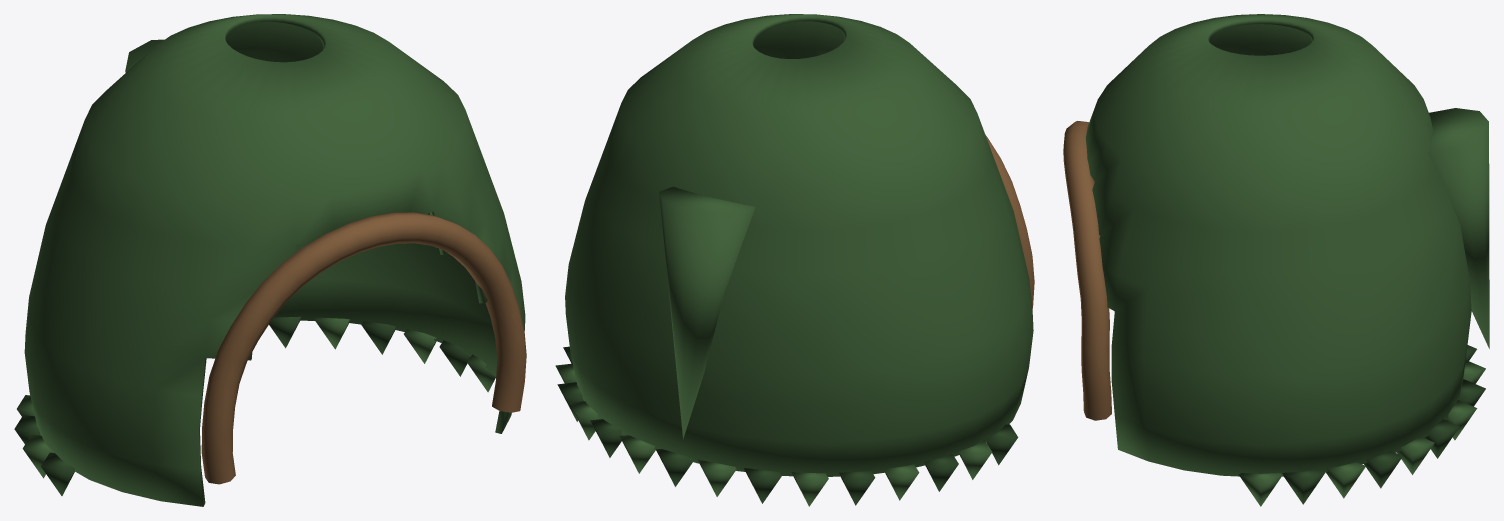
Rendered from helm-ranger.glb.
The picture shows the model from 3 angles, left to right: view 1: azimuth 30°, elevation 25°; view 2: azimuth 150°, elevation 25°; view 3: azimuth 270°, elevation 25°; orthographic projection. The views are drawn at different scales.
Visible parts, largest first — view 1: garment, tube, hem-flap.015, hem-flap.014, hem-flap.004, hem-flap.003, hem-flap.002, hem-flap.005; view 2: garment, tail-attachment, tube, hem-flap.008, hem-flap.007, hem-flap.009, hem-flap.010, hem-flap.006, hem-flap.011, hem-flap.015, hem-flap.014, hem-flap.013 (+3 smaller); view 3: garment, tail-attachment, tube, hem-flap, hem-flap.001, hem-flap.002, hem-flap.003, hem-flap.004, hem-flap.005, hem-flap.006.
Part boxes in pixels (x1,y1,x2,y2): garment: [24, 14, 525, 506]; tube: [201, 212, 526, 484]; hem-flap.015: [41, 452, 75, 495]; hem-flap.014: [22, 434, 53, 478]; hem-flap.004: [314, 317, 349, 349]; hem-flap.003: [361, 321, 395, 354]; hem-flap.002: [404, 329, 436, 363]; hem-flap.005: [269, 316, 300, 348]; garment: [565, 14, 1033, 476]; tail-attachment: [659, 186, 755, 439]; tube: [985, 135, 1034, 309]; hem-flap.008: [697, 459, 736, 496]; hem-flap.007: [656, 449, 694, 486]; hem-flap.009: [744, 468, 781, 503]; hem-flap.010: [791, 472, 828, 506]; hem-flap.006: [619, 435, 655, 473]; hem-flap.011: [839, 471, 875, 505]; hem-flap.015: [986, 424, 1018, 465]; hem-flap.014: [959, 440, 992, 479]; hem-flap.013: [924, 454, 958, 491]; garment: [1085, 14, 1471, 476]; tail-attachment: [1427, 108, 1489, 348]; tube: [1063, 121, 1111, 420]; hem-flap: [1238, 473, 1282, 506]; hem-flap.001: [1282, 469, 1325, 504]; hem-flap.002: [1325, 462, 1365, 498]; hem-flap.003: [1364, 451, 1402, 488]; hem-flap.004: [1397, 436, 1434, 474]; hem-flap.005: [1424, 419, 1459, 458]; hem-flap.006: [1446, 400, 1477, 440].
Bounding box in the file's own units: 1.11 × 0.92 × 0.9496.
